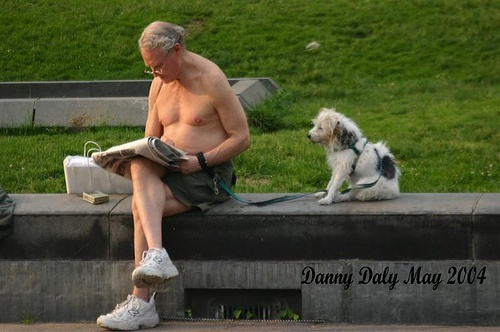head: (138, 21, 188, 86)
person: (85, 17, 253, 332)
